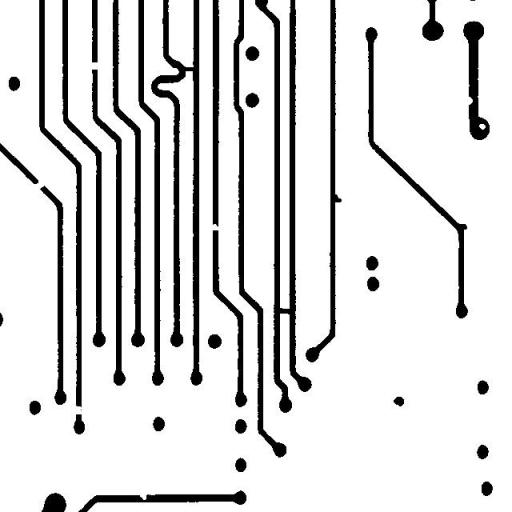copper: (386, 388, 411, 414)
mousebite: (459, 89, 480, 112), (132, 486, 154, 507)
open: (66, 398, 92, 422), (26, 172, 51, 196), (82, 54, 106, 77), (204, 216, 226, 238)
pin-hole: (471, 116, 493, 137)
short: (270, 300, 298, 322), (174, 58, 202, 78)
spur: (326, 186, 348, 210), (449, 216, 474, 237)
